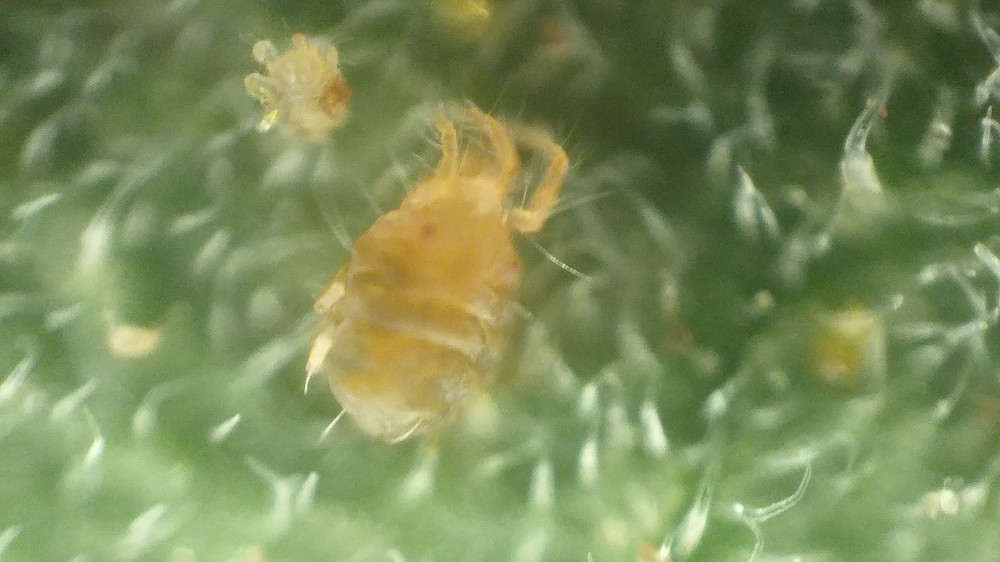Aracnido Rojo: (311, 105, 579, 469), (231, 21, 372, 154)
